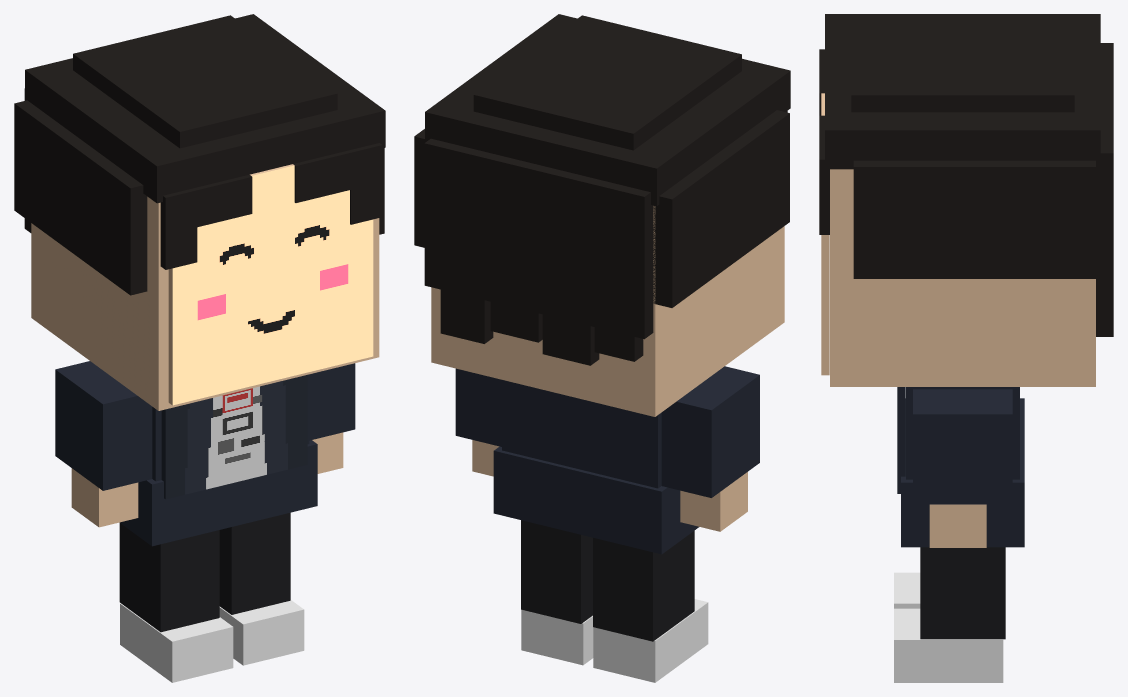
The model's file is fukuchan.glb.
3 views of the same model, side by side, from view 1: azimuth 30°, elevation 25°; view 2: azimuth 150°, elevation 25°; view 3: azimuth 270°, elevation 25° (orthographic). The views are drawn at different scales.
Visible parts, largest first — view 1: FukuchanVoxel_FacePanel, FukuchanVoxel_HairTop, FukuchanVoxel_HairCap, FukuchanVoxel_HeadCube, FukuchanVoxel_SideHair_-1, FukuchanVoxel_OutfitFrontPanel, FukuchanVoxel_SecondarySleeve, FukuchanVoxel_CoatSkirt, FukuchanVoxel_PantsLeg_-1, FukuchanVoxel_PantsLeg_1, FukuchanVoxel_Sneaker_-1, FukuchanVoxel_Sneaker_1 (+8 smaller); view 2: FukuchanVoxel_RearHairMain, FukuchanVoxel_HeadCube, FukuchanVoxel_HairTop, FukuchanVoxel_HairCap, FukuchanVoxel_SideHair_-1, FukuchanVoxel_CoatSkirt, FukuchanVoxel_Torso, FukuchanVoxel_SecondarySleeve, FukuchanVoxel_PantsLeg_-1, FukuchanVoxel_PantsLeg_1, FukuchanVoxel_Sneaker_-1, FukuchanVoxel_PrimarySleeve (+8 smaller); view 3: FukuchanVoxel_HeadCube, FukuchanVoxel_SideHair_1, FukuchanVoxel_HairTop, FukuchanVoxel_HairCap, FukuchanVoxel_PrimarySleeve, FukuchanVoxel_PantsLeg_1, FukuchanVoxel_Sneaker_1, FukuchanVoxel_RearHairMain, FukuchanVoxel_CoatSkirt, FukuchanVoxel_PrimaryHand, FukuchanVoxel_Torso, FukuchanVoxel_FacePanel (+4 smaller).
Boxes of the visible parts, x1,y1,x2,y2 form: FukuchanVoxel_FacePanel: (168, 164, 373, 405); FukuchanVoxel_HairTop: (73, 15, 337, 148); FukuchanVoxel_HairCap: (25, 14, 385, 203); FukuchanVoxel_HeadCube: (31, 196, 379, 410); FukuchanVoxel_SideHair_-1: (14, 100, 147, 295); FukuchanVoxel_OutfitFrontPanel: (161, 375, 307, 499); FukuchanVoxel_SecondarySleeve: (55, 361, 152, 490); FukuchanVoxel_CoatSkirt: (120, 440, 317, 546); FukuchanVoxel_PantsLeg_-1: (119, 523, 219, 632); FukuchanVoxel_PantsLeg_1: (219, 512, 290, 614); FukuchanVoxel_Sneaker_-1: (120, 603, 233, 682); FukuchanVoxel_Sneaker_1: (219, 600, 304, 665); FukuchanVoxel_RearHairMain: (424, 138, 653, 339); FukuchanVoxel_HeadCube: (431, 206, 784, 416); FukuchanVoxel_HairTop: (473, 15, 741, 150); FukuchanVoxel_HairCap: (425, 14, 790, 206); FukuchanVoxel_SideHair_-1: (653, 110, 789, 307); FukuchanVoxel_CoatSkirt: (493, 446, 698, 554); FukuchanVoxel_Torso: (502, 380, 661, 488); FukuchanVoxel_SecondarySleeve: (661, 366, 759, 497); FukuchanVoxel_PantsLeg_-1: (593, 531, 694, 641); FukuchanVoxel_PantsLeg_1: (521, 520, 592, 623); FukuchanVoxel_Sneaker_-1: (593, 599, 708, 682); FukuchanVoxel_PrimarySleeve: (455, 368, 501, 446); FukuchanVoxel_HeadCube: (830, 169, 1095, 386); FukuchanVoxel_SideHair_1: (853, 160, 1095, 278); FukuchanVoxel_HairTop: (851, 15, 1074, 112); FukuchanVoxel_HairCap: (825, 14, 1100, 169); FukuchanVoxel_PrimarySleeve: (913, 389, 1012, 504); FukuchanVoxel_PantsLeg_1: (920, 547, 1005, 639); FukuchanVoxel_Sneaker_1: (894, 608, 1003, 682); FukuchanVoxel_RearHairMain: (1096, 43, 1113, 299); FukuchanVoxel_CoatSkirt: (901, 398, 1024, 547); FukuchanVoxel_PrimaryHand: (929, 504, 986, 547); FukuchanVoxel_Torso: (906, 387, 1019, 479); FukuchanVoxel_FacePanel: (821, 93, 829, 375).
Size of the model in its own units: 1.29 by 2.76 by 1.24.
Materials: 7 (2 with a texture image).
